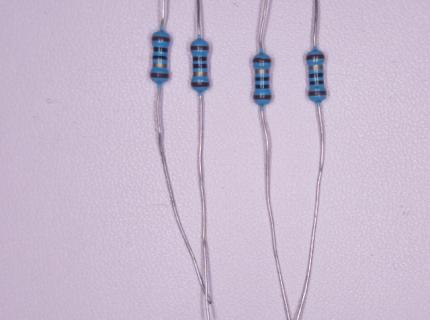Black band: (192, 56, 208, 62), (153, 47, 168, 53), (153, 55, 168, 61), (255, 76, 270, 82), (309, 80, 324, 86), (309, 72, 324, 78), (193, 63, 208, 69), (254, 84, 270, 89)
Brown band: (306, 53, 326, 61), (252, 57, 272, 63), (150, 73, 169, 79), (308, 90, 327, 96), (151, 36, 170, 42), (190, 45, 210, 50), (191, 82, 210, 87), (253, 95, 272, 100)
Gold band: (193, 72, 209, 77), (308, 65, 323, 70), (255, 69, 269, 74), (153, 63, 167, 68)
